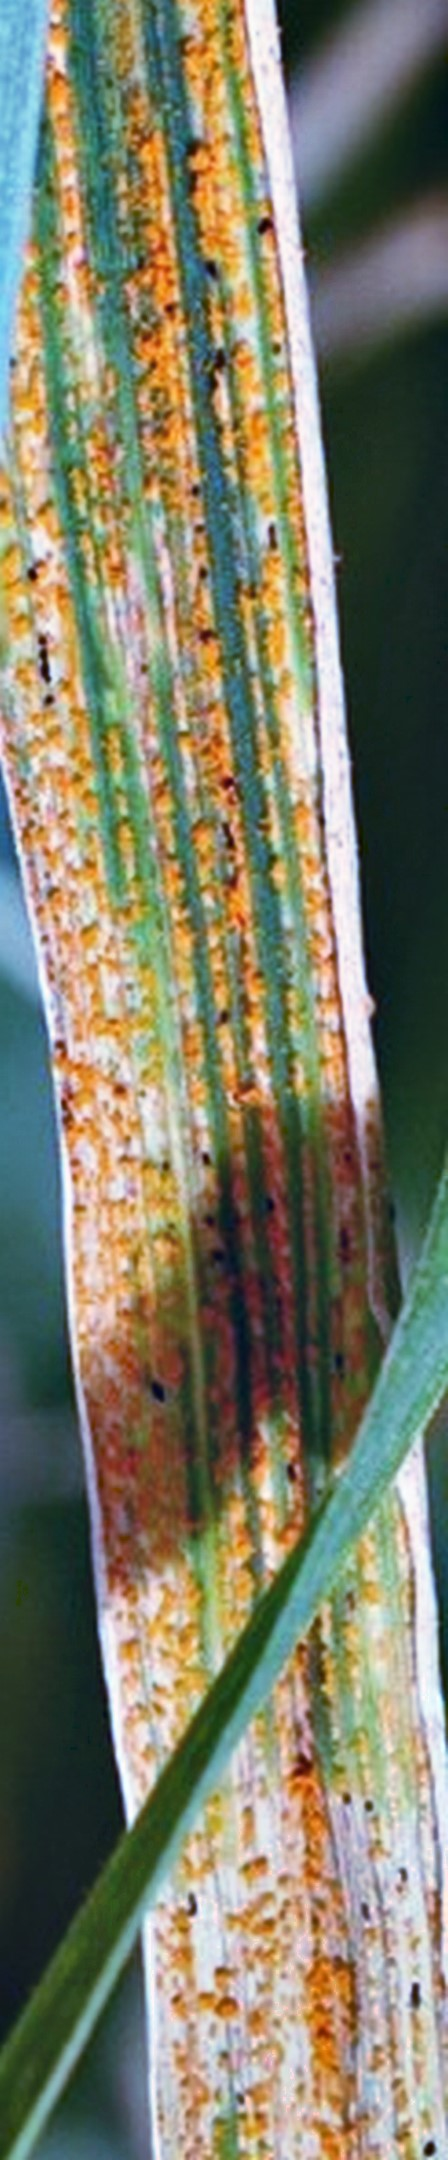Leaf Rust: (1, 59, 448, 2075)
